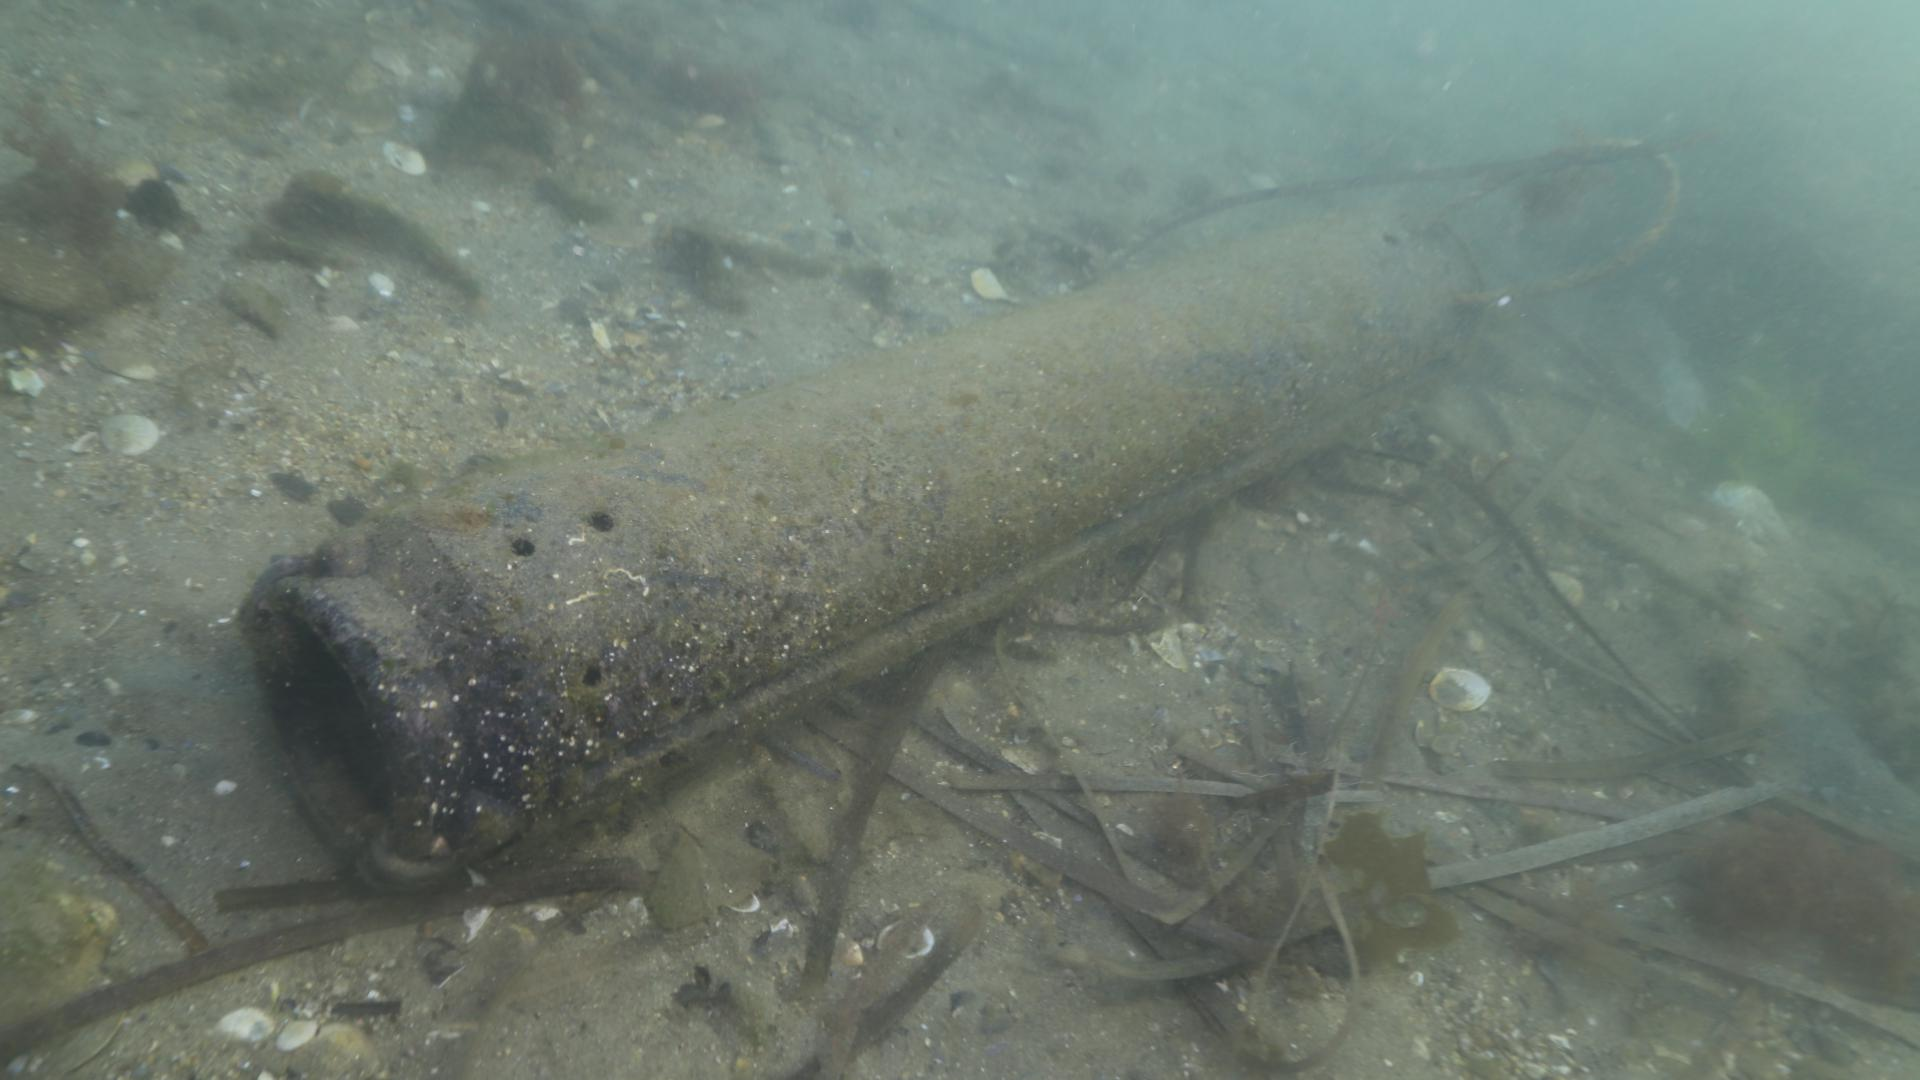eel fish trap: (243, 204, 1484, 895)
rope: (1423, 133, 1684, 306)
